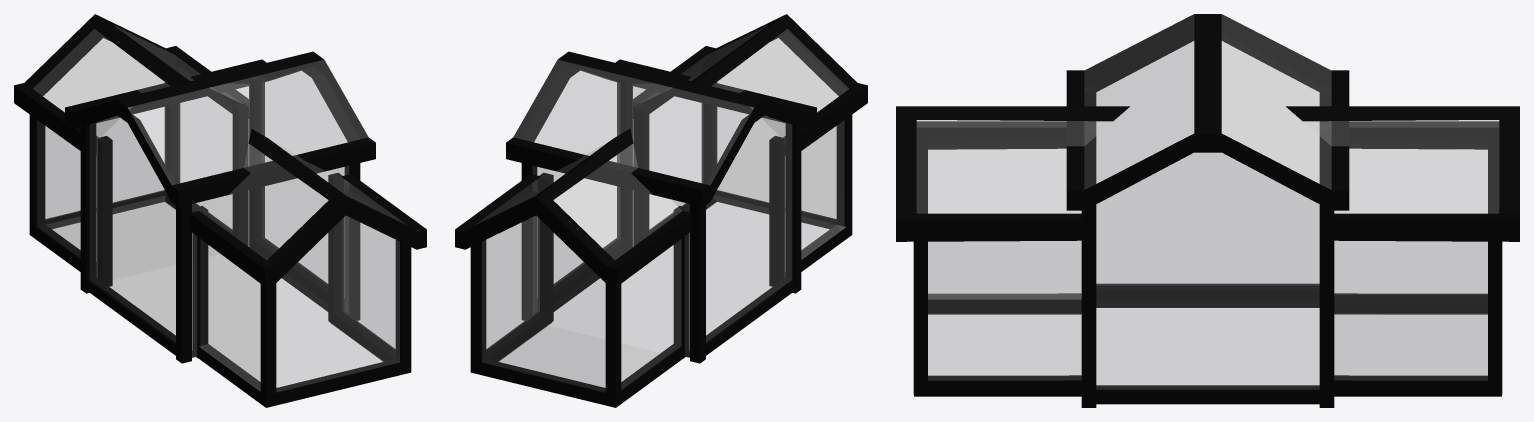
The model's file is Greenhouse.glb.
The picture shows the model from 3 angles, left to right: view 1: azimuth 30°, elevation 25°; view 2: azimuth 150°, elevation 25°; view 3: azimuth 270°, elevation 25°; orthographic projection. The views are drawn at different scales.
Visible parts, largest first — view 1: Cube.002; view 2: Cube.002; view 3: Cube.002.
Part boxes in pixels (bbox=[...]): Cube.002: bbox=[14, 14, 426, 407]; Cube.002: bbox=[455, 14, 867, 407]; Cube.002: bbox=[896, 14, 1519, 407].
Bounding box in the file's own units: 4 × 4.37 × 8.82.
1 material, 1 textured.
